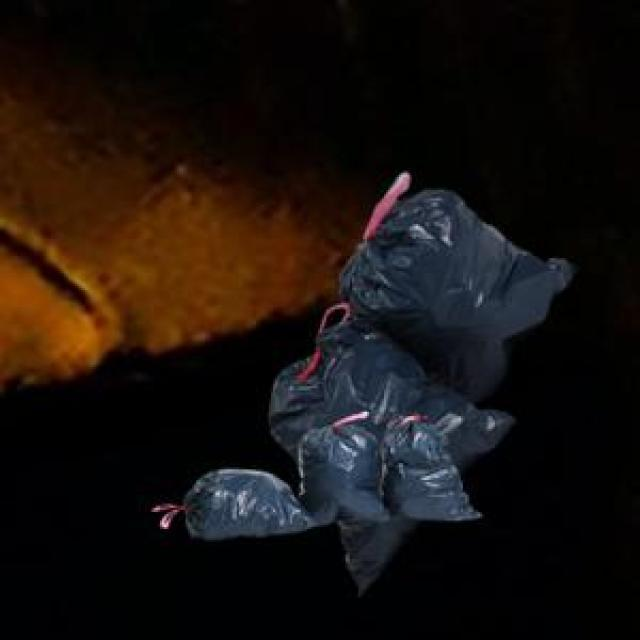waste: (184, 174, 575, 593)
